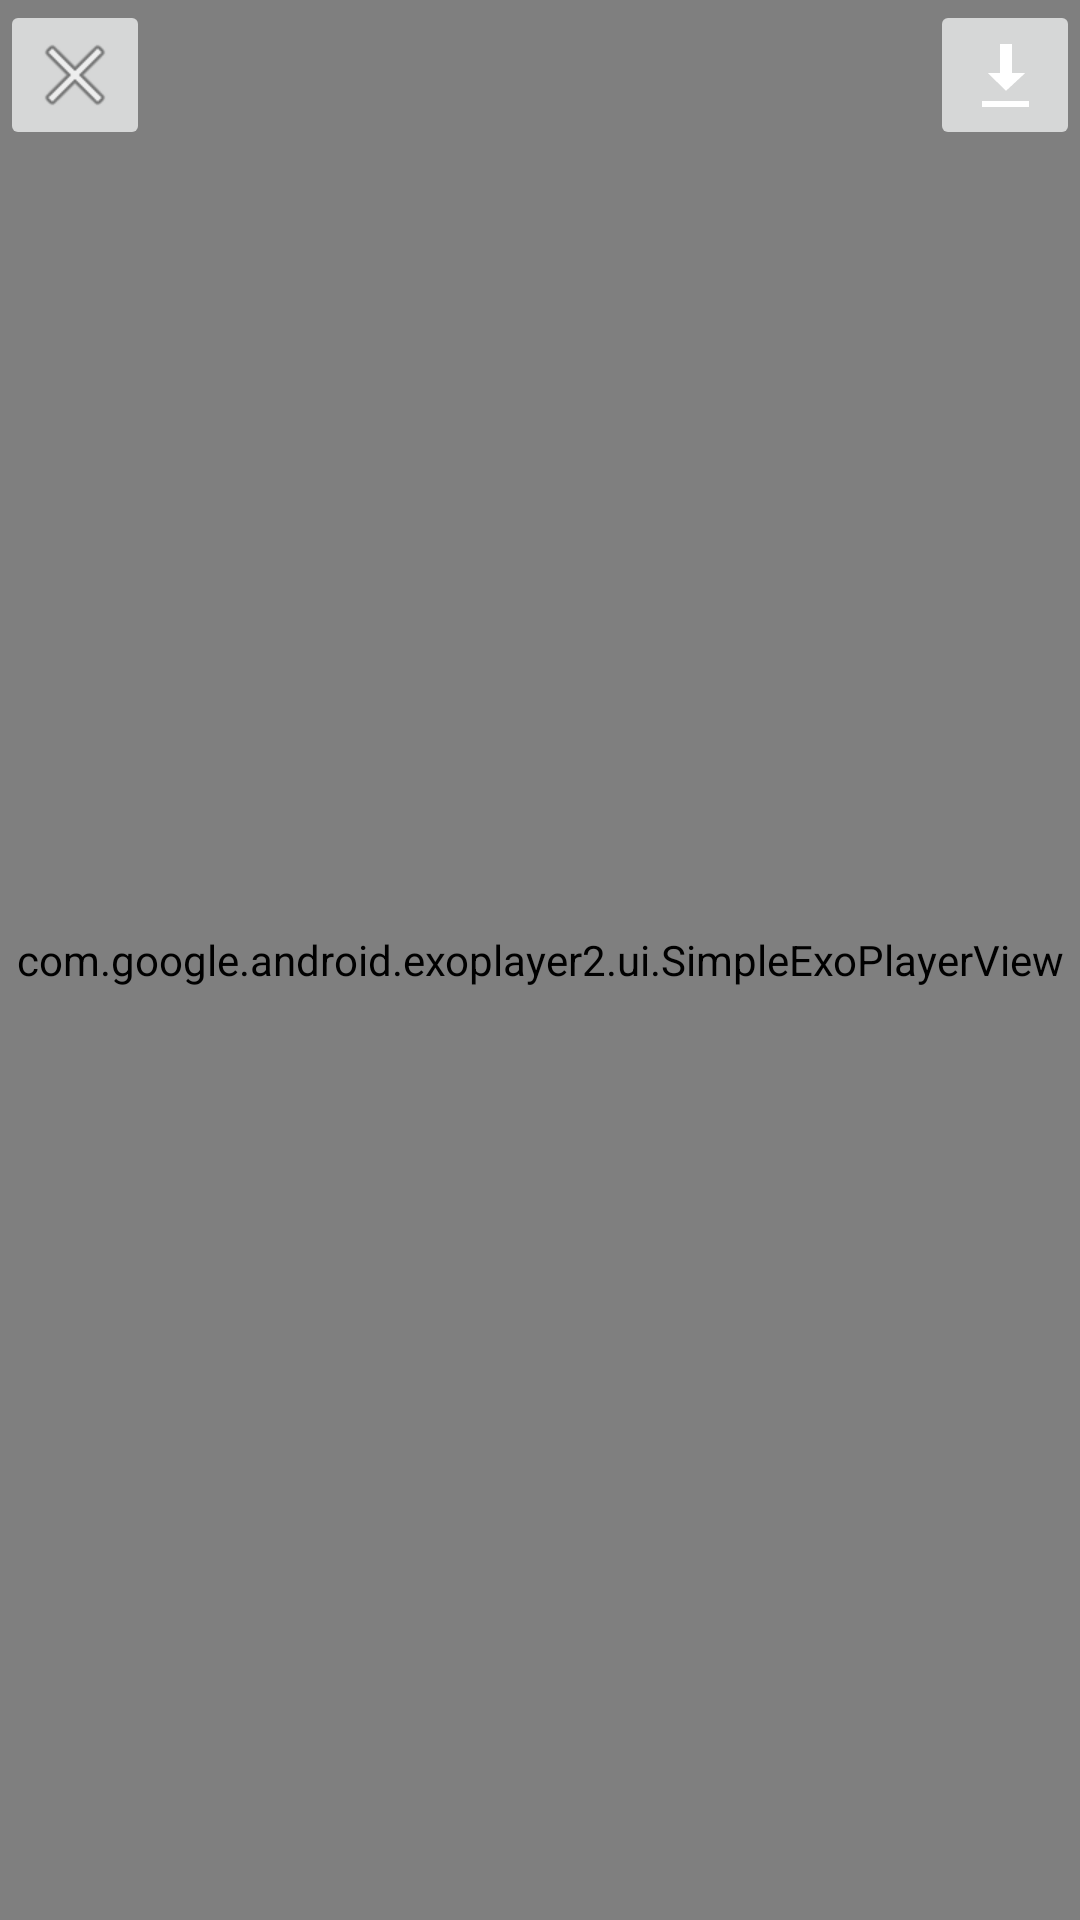

Where icons sit on this 1080px×1920px app screen, as (x1, y1, x2, y2):
close clear cancel: (12, 18, 138, 132)
